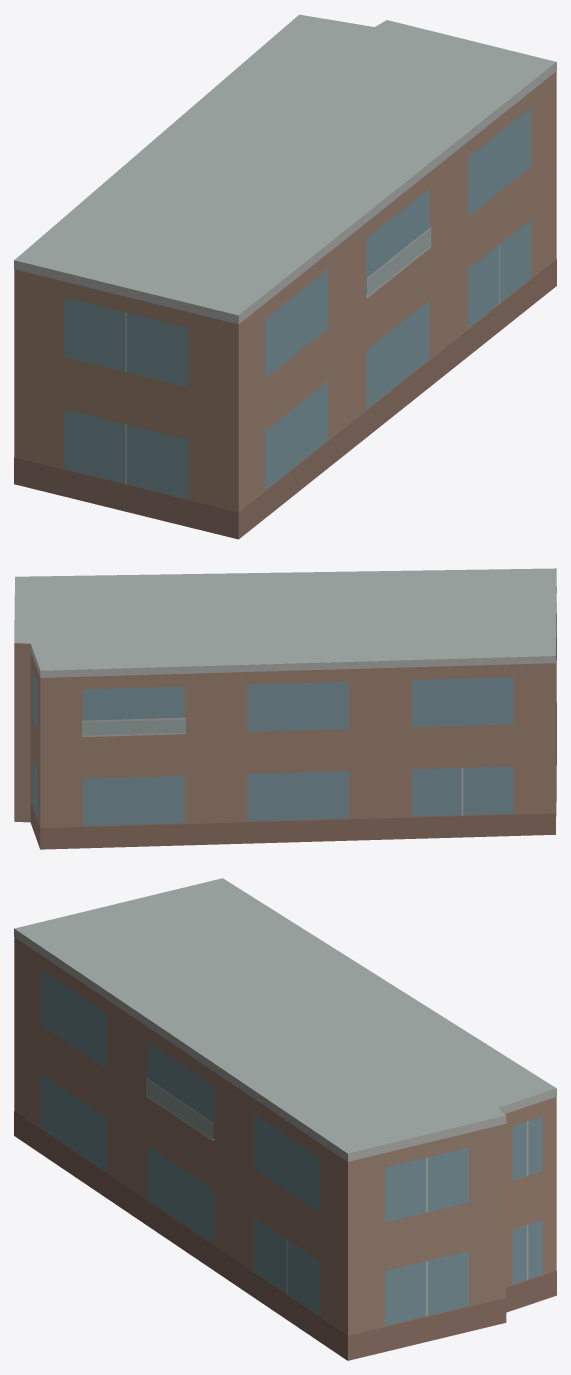
The model's file is survey-upis-32589425.glb.
3 renders of one model, top to bottom at view 1: azimuth 30°, elevation 25°; view 2: azimuth 150°, elevation 25°; view 3: azimuth 270°, elevation 25°, orthographic. The views are drawn at different scales.
Parts seen in each view (by area): view 1: survey-upis-32589425.tmp; view 2: survey-upis-32589425.tmp; view 3: survey-upis-32589425.tmp.
Boxes of the visible parts, x1,y1,x2,y2 form: survey-upis-32589425.tmp: (14, 14, 556, 539); survey-upis-32589425.tmp: (14, 568, 556, 849); survey-upis-32589425.tmp: (14, 878, 556, 1360).
Size of the model in its own units: 17.41 by 6.1 by 14.49.
